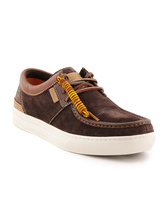shoes: (12, 63, 158, 157)
